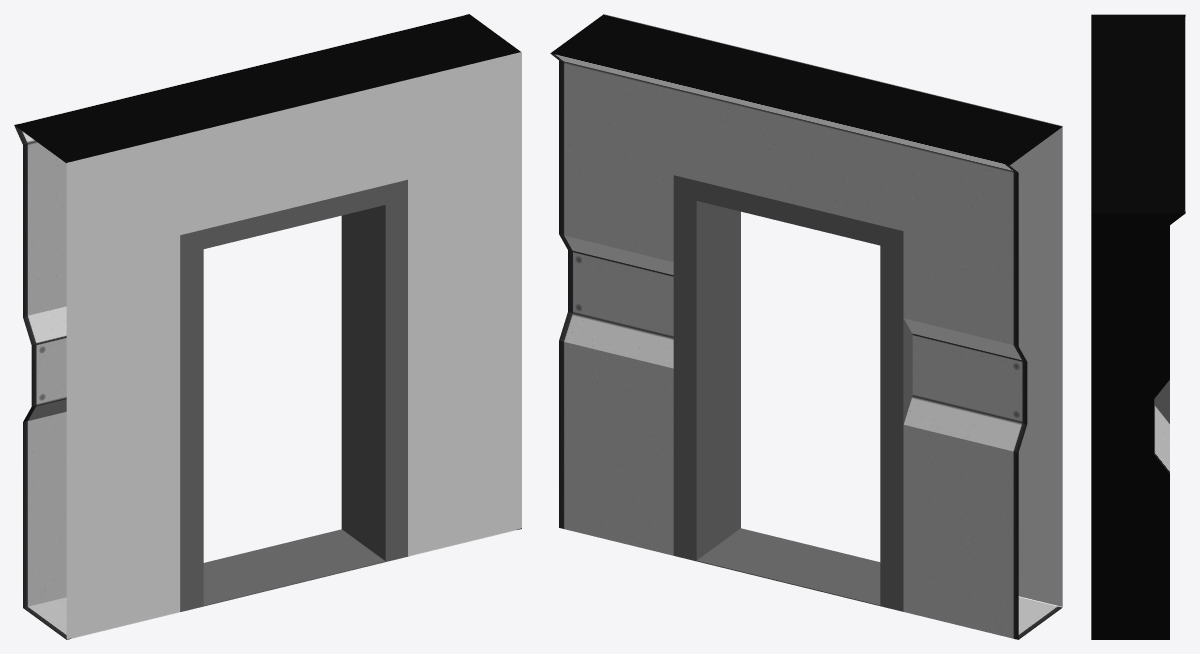
The model's file is door-wall-1.fbx.
3 renders of one model, left to right at view 1: azimuth 30°, elevation 25°; view 2: azimuth 150°, elevation 25°; view 3: azimuth 270°, elevation 25°, orthographic. The views are drawn at different scales.
Visible parts, largest first — view 1: pCube51, pCube52; view 2: pCube51, pCube52; view 3: pCube51, pCube52.
Part boxes in pixels (bbox=[...]): pCube51: bbox=[14, 14, 521, 639]; pCube52: bbox=[180, 179, 408, 611]; pCube51: bbox=[550, 14, 1062, 639]; pCube52: bbox=[673, 175, 912, 611]; pCube51: bbox=[1091, 14, 1185, 639]; pCube52: bbox=[1154, 380, 1169, 423].
Size of the model in its own units: 3 by 3 by 0.6.
3 materials, 1 textured.
